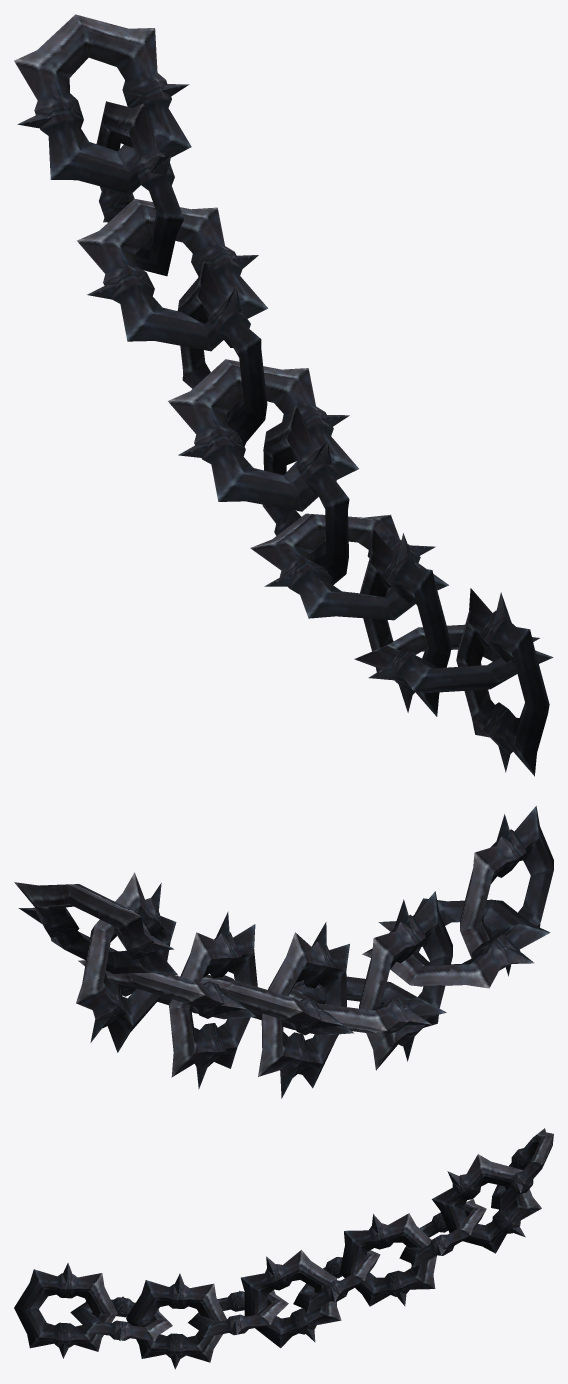
The model's file is sysd_prop06a.FBX.
3 renders of one model, top to bottom at view 1: azimuth 30°, elevation 25°; view 2: azimuth 150°, elevation 25°; view 3: azimuth 270°, elevation 25°, orthographic. The views are drawn at different scales.
Parts seen in each view (by area): view 1: sysd_prop06a; view 2: sysd_prop06a; view 3: sysd_prop06a.
Boxes of the visible parts, box(x1,y1,x2,y2) form: sysd_prop06a: box(14, 14, 553, 776); sysd_prop06a: box(14, 806, 553, 1098); sysd_prop06a: box(14, 1128, 553, 1369).
Bounding box in the file's own units: 207 × 465 × 948.
Materials: 1 (1 with a texture image).
